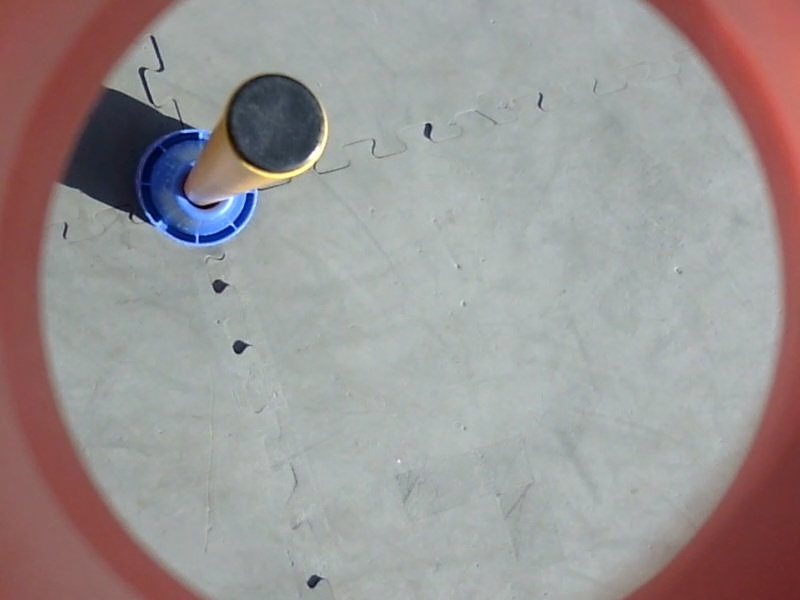tip: (221, 68, 334, 181)
